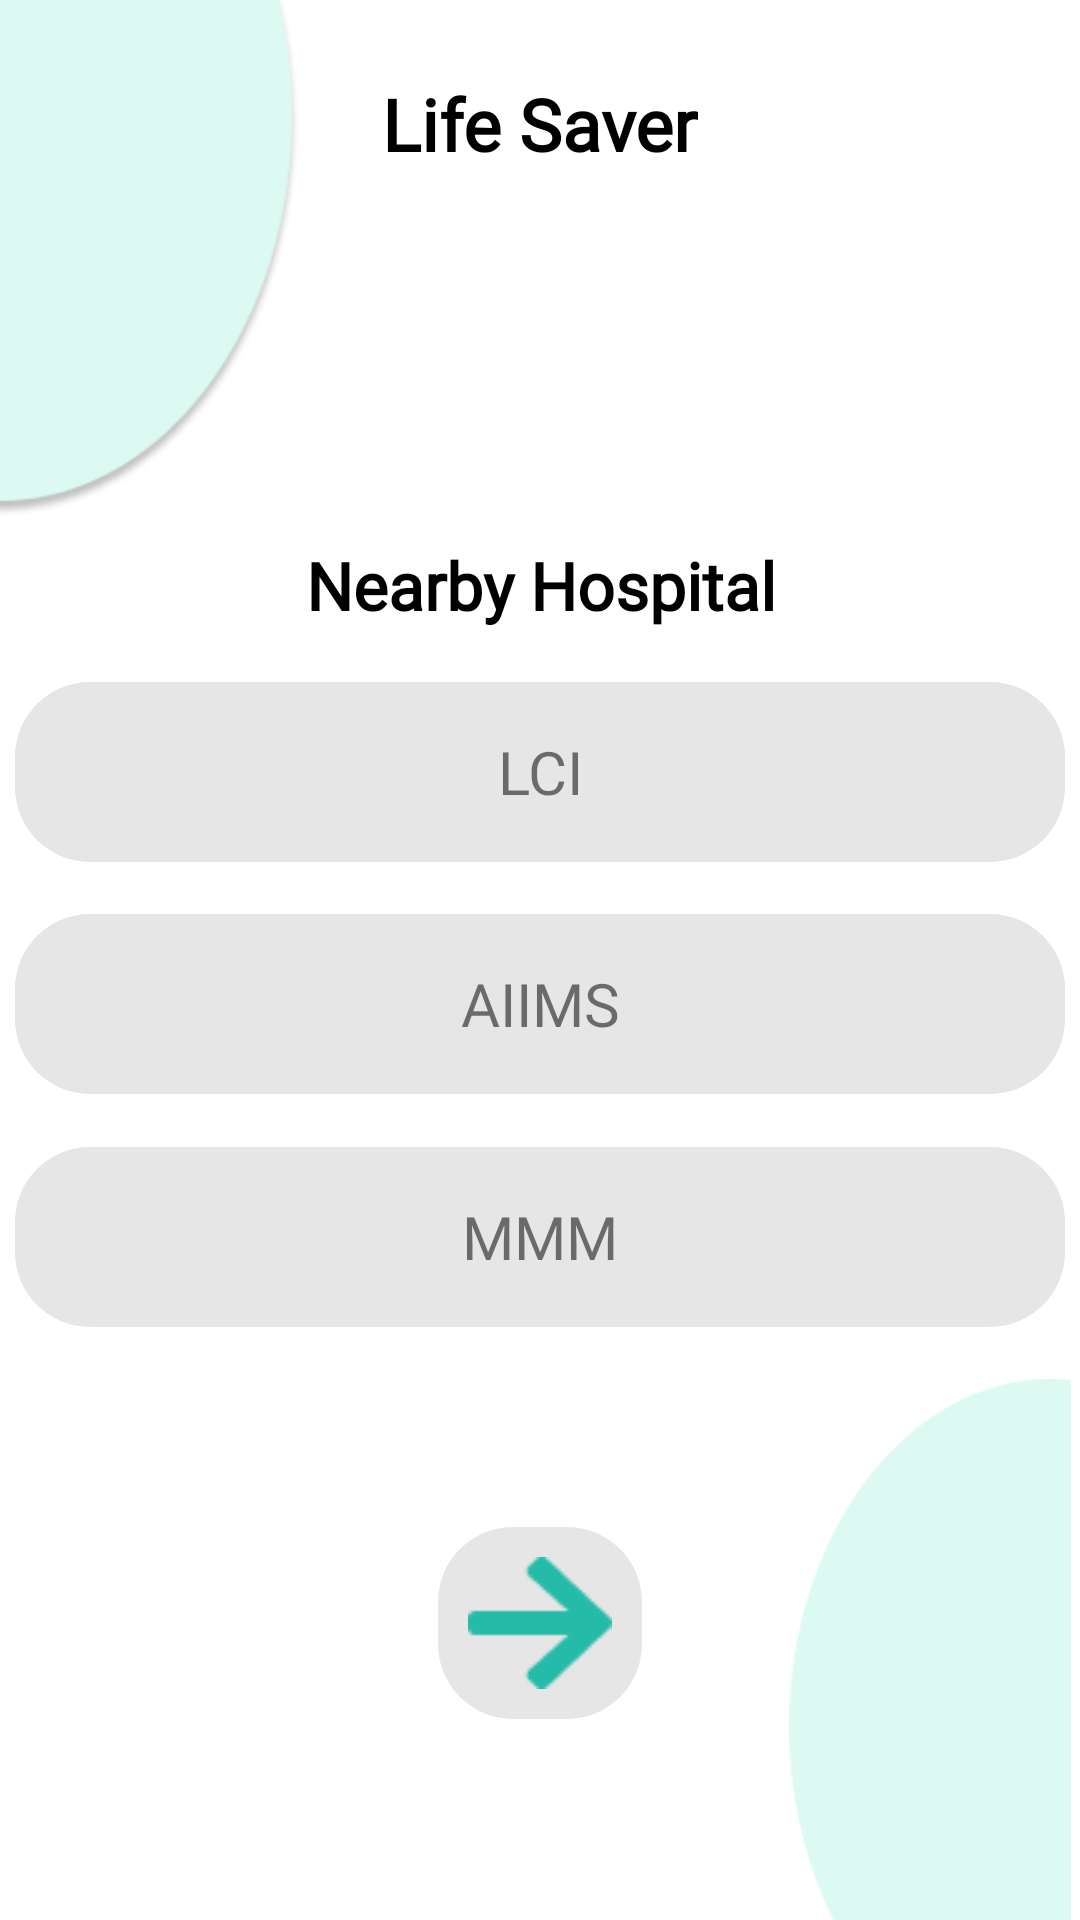

Icons on this 1080x1920 Android screen, each with its box as (x1, y1, x2, y2):
forward arrow: (438, 1527, 642, 1719)
